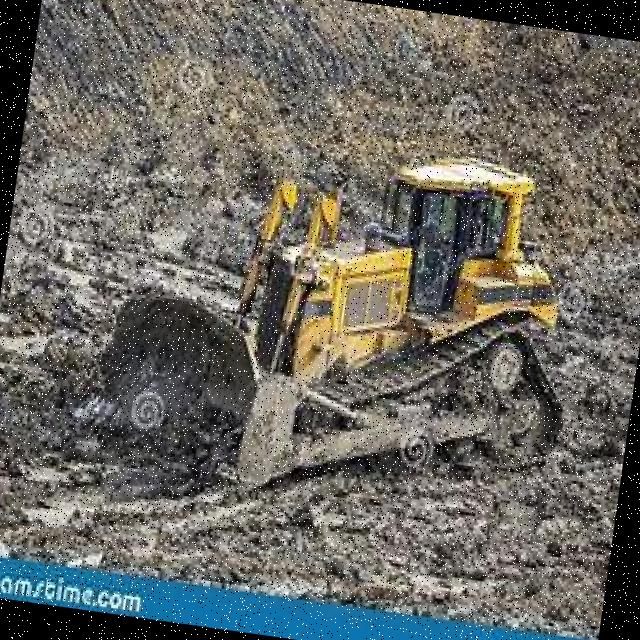Bulldozer: (68, 82, 612, 536)
